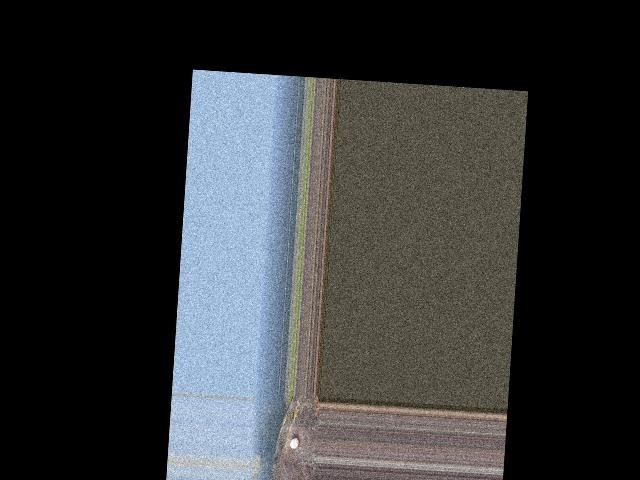egg: (289, 438, 299, 449)
